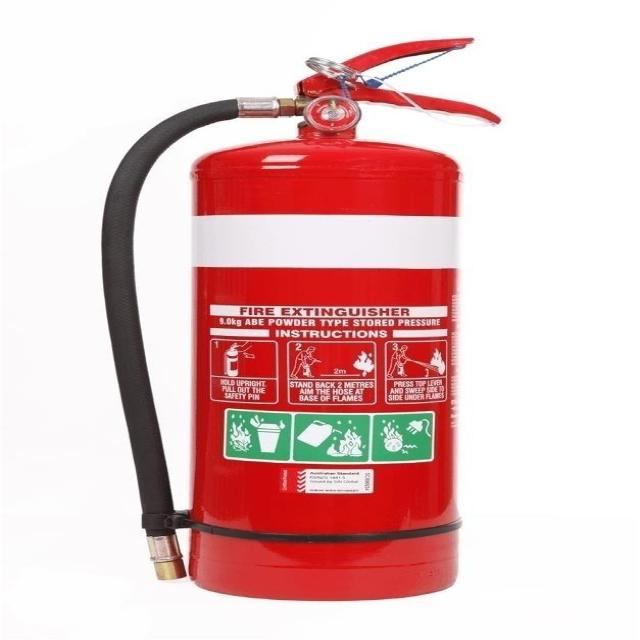fire_extinguisher: (94, 35, 508, 604)
